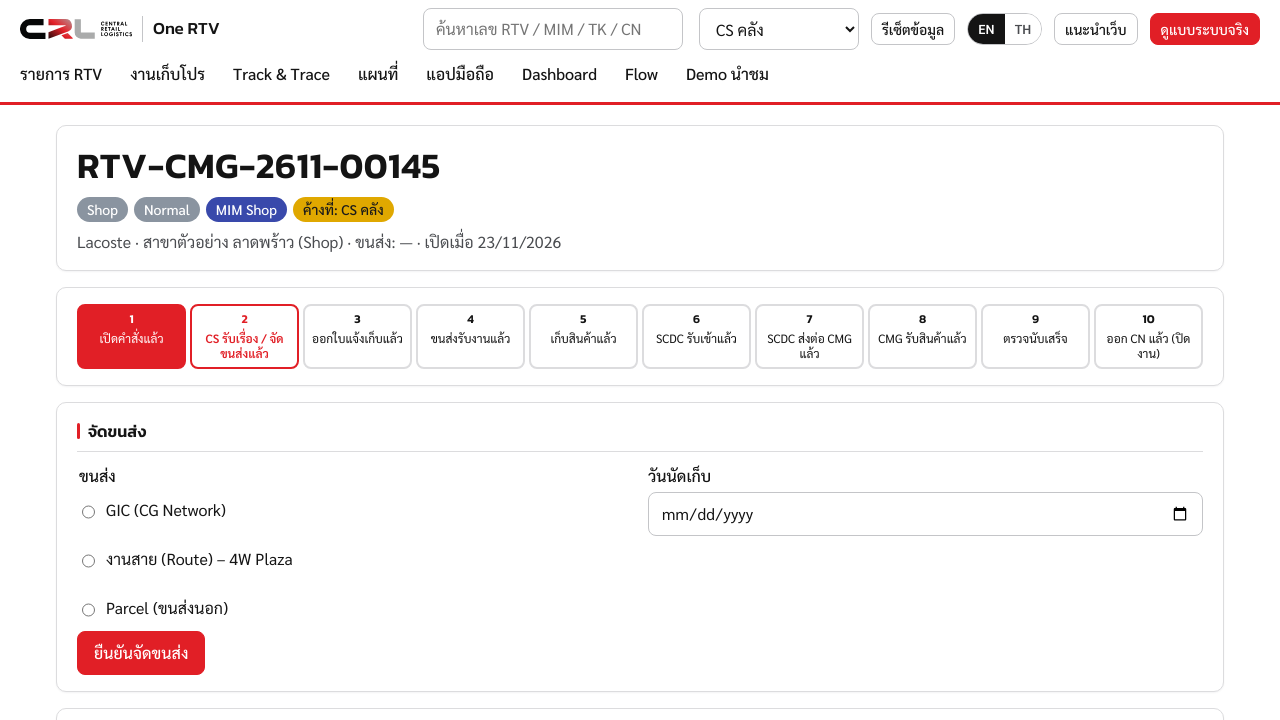
Scenario: action panel disappears when the role changes
The width and height of the screenshot is (1280, 720).
Expected: the button "ยืนยันจัดขนส่ง" is shown, x1=77 y1=631 x2=205 y2=675
Step 1. Select "คลัง CMG" in the dropdown named "บทบาท" → (779, 29), box x1=699 y1=8 x2=859 y2=50
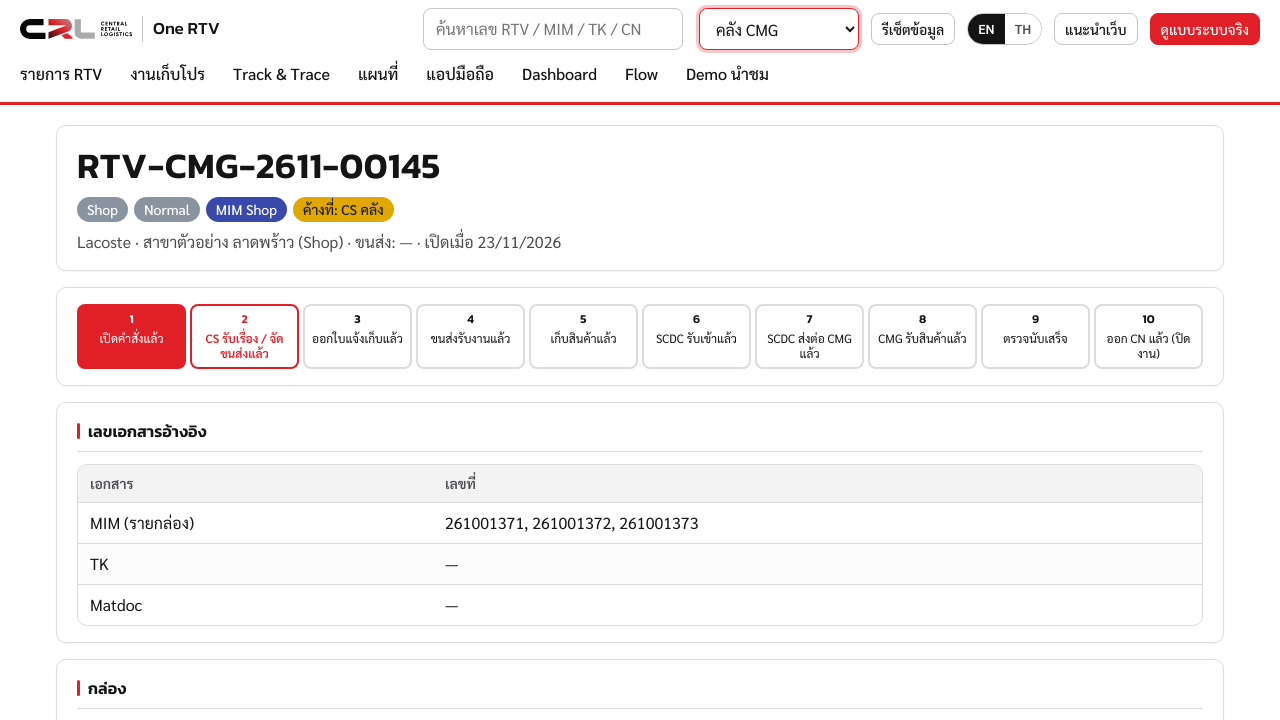
Result: the button "ยืนยันจัดขนส่ง" is gone
